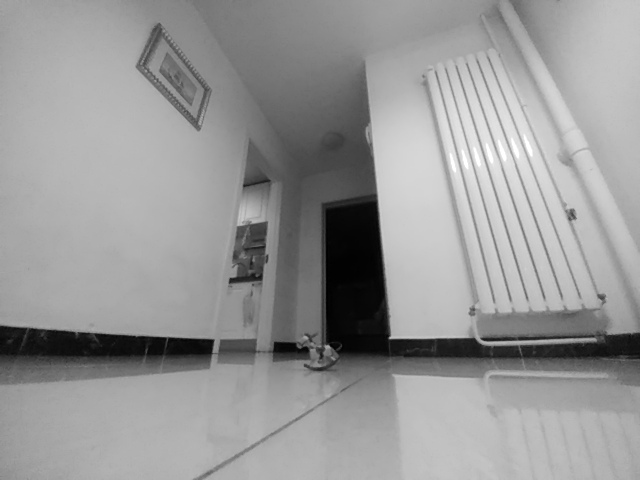toy: (297, 333, 342, 371)
